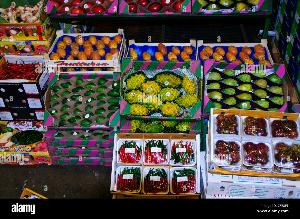apple: (50, 0, 116, 24), (116, 0, 184, 20)
avocado: (45, 74, 121, 130)
bell_pepper: (114, 138, 196, 196), (0, 60, 46, 86)
